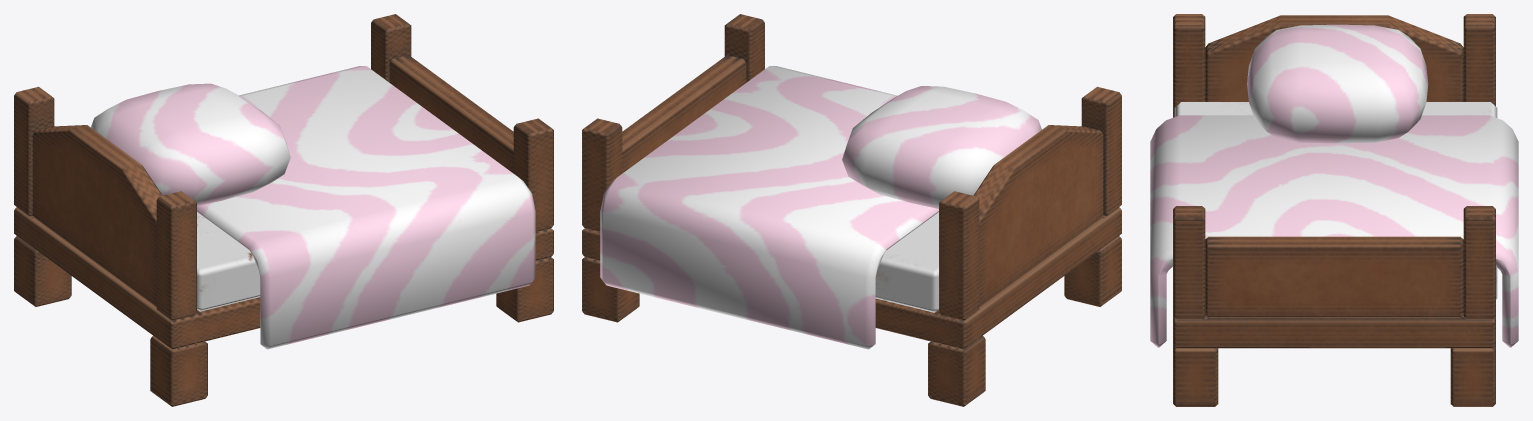
The model's file is bed.glb.
3 renders of one model, left to right at view 1: azimuth 30°, elevation 25°; view 2: azimuth 150°, elevation 25°; view 3: azimuth 270°, elevation 25°, orthographic.
Parts seen in each view (by area): view 1: bed_low; view 2: bed_low; view 3: bed_low.
Part boxes in pixels (x1=…): bed_low: x1=14, y1=14, x2=553, y2=406; bed_low: x1=582, y1=14, x2=1121, y2=406; bed_low: x1=1150, y1=14, x2=1518, y2=406.
Size of the model in its own units: 1.4 by 0.7542 by 1.14.
1 material, 1 textured.
